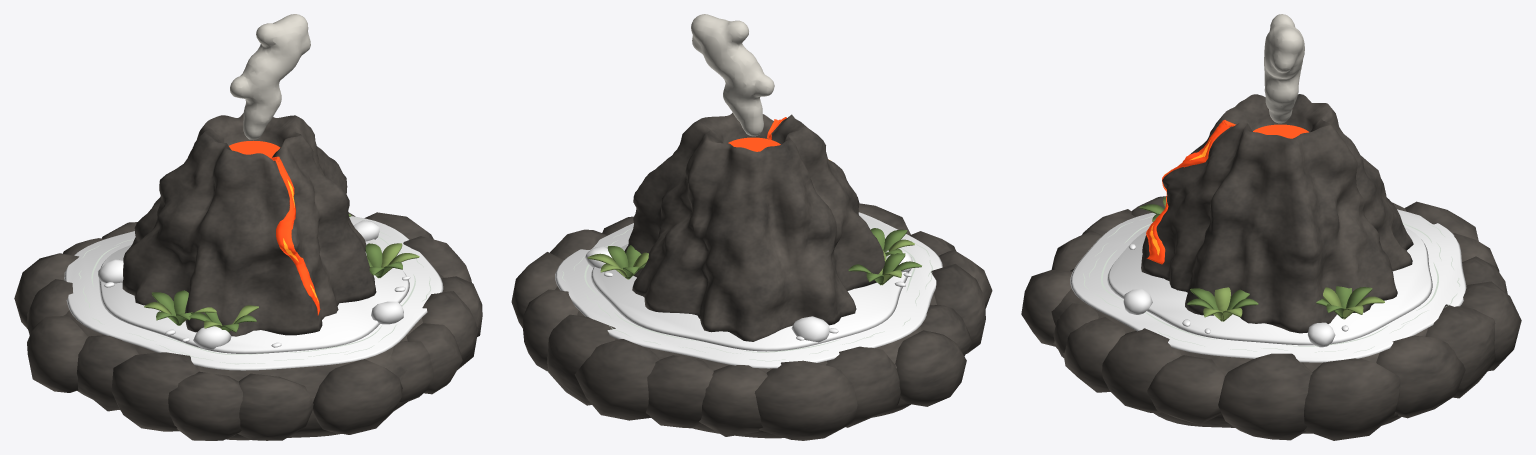
Rendered from volcano-island-v12.glb.
3 renders of one model, left to right at view 1: azimuth 30°, elevation 25°; view 2: azimuth 150°, elevation 25°; view 3: azimuth 270°, elevation 25°, orthographic. The views are drawn at different scales.
Parts seen in each view (by area): view 1: RUNTIME | Rock | weathered charcoal basalt, Volcano | hollow fluted mountain.001, RUNTIME | Water | lagoon teal, RUNTIME | Sand | warm ivory, RUNTIME | Smoke | soft warm ivory, RUNTIME | Rock | dark crater, RUNTIME | Lava | warm coral, RUNTIME | Plant | coastal olive, RUNTIME | Plant | coastal sage, RUNTIME | Water | ivory foam; view 2: RUNTIME | Rock | weathered charcoal basalt, Volcano | hollow fluted mountain.001, RUNTIME | Water | lagoon teal, RUNTIME | Sand | warm ivory, RUNTIME | Smoke | soft warm ivory, RUNTIME | Plant | coastal olive, RUNTIME | Rock | dark crater, RUNTIME | Plant | coastal sage, RUNTIME | Water | ivory foam, RUNTIME | Lava | warm coral; view 3: RUNTIME | Rock | weathered charcoal basalt, Volcano | hollow fluted mountain.001, RUNTIME | Water | lagoon teal, RUNTIME | Sand | warm ivory, RUNTIME | Smoke | soft warm ivory, RUNTIME | Plant | coastal olive, RUNTIME | Lava | warm coral, RUNTIME | Rock | dark crater, RUNTIME | Plant | coastal sage, RUNTIME | Water | ivory foam.
Part boxes in pixels (bbox=[...]): RUNTIME | Rock | weathered charcoal basalt: bbox=[14, 212, 482, 440]; Volcano | hollow fluted mountain.001: bbox=[122, 113, 376, 336]; RUNTIME | Water | lagoon teal: bbox=[64, 216, 443, 370]; RUNTIME | Sand | warm ivory: bbox=[98, 239, 409, 353]; RUNTIME | Smoke | soft warm ivory: bbox=[230, 14, 310, 139]; RUNTIME | Rock | dark crater: bbox=[98, 220, 410, 349]; RUNTIME | Lava | warm coral: bbox=[229, 140, 320, 315]; RUNTIME | Plant | coastal olive: bbox=[151, 214, 402, 332]; RUNTIME | Plant | coastal sage: bbox=[144, 243, 419, 328]; RUNTIME | Water | ivory foam: bbox=[78, 217, 430, 364]; RUNTIME | Rock | weathered charcoal basalt: bbox=[511, 203, 992, 440]; Volcano | hollow fluted mountain.001: bbox=[624, 113, 884, 341]; RUNTIME | Water | lagoon teal: bbox=[555, 212, 942, 368]; RUNTIME | Sand | warm ivory: bbox=[590, 243, 909, 351]; RUNTIME | Smoke | soft warm ivory: bbox=[691, 14, 774, 136]; RUNTIME | Plant | coastal olive: bbox=[607, 228, 921, 285]; RUNTIME | Rock | dark crater: bbox=[585, 246, 912, 342]; RUNTIME | Plant | coastal sage: bbox=[587, 239, 914, 285]; RUNTIME | Water | ivory foam: bbox=[562, 223, 932, 361]; RUNTIME | Lava | warm coral: bbox=[728, 117, 786, 151]; RUNTIME | Rock | weathered charcoal basalt: bbox=[1021, 196, 1521, 440]; Volcano | hollow fluted mountain.001: bbox=[1141, 94, 1413, 333]; RUNTIME | Water | lagoon teal: bbox=[1070, 209, 1466, 362]; RUNTIME | Sand | warm ivory: bbox=[1107, 227, 1432, 345]; RUNTIME | Smoke | soft warm ivory: bbox=[1264, 14, 1304, 123]; RUNTIME | Plant | coastal olive: bbox=[1139, 204, 1372, 319]; RUNTIME | Lava | warm coral: bbox=[1146, 120, 1308, 264]; RUNTIME | Rock | dark crater: bbox=[1123, 244, 1348, 347]; RUNTIME | Plant | coastal sage: bbox=[1163, 197, 1384, 321]; RUNTIME | Water | ivory foam: bbox=[1083, 215, 1460, 352].
Size of the model in its own units: 1.77 by 1.37 by 1.78.
Materials: 11 (2 with a texture image).
